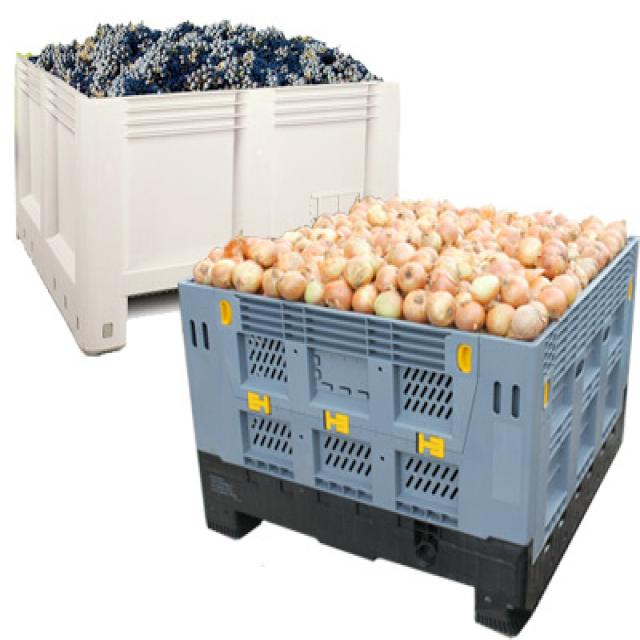basket: (179, 240, 639, 635), (0, 55, 407, 375)
